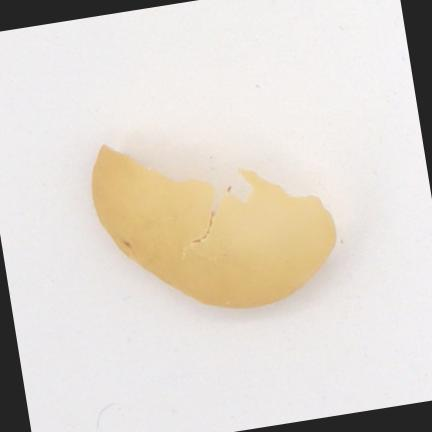parchment: (94, 145, 336, 308)
